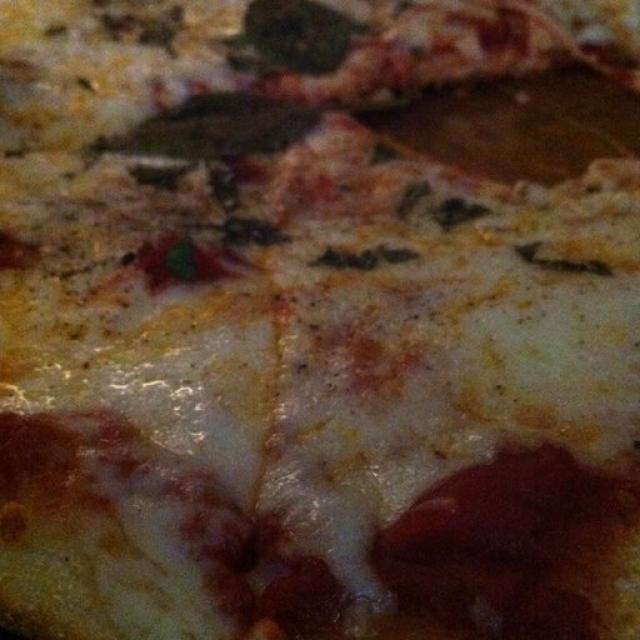Basil: (246, 0, 363, 75), (138, 167, 244, 207), (394, 186, 494, 228), (513, 244, 612, 280), (317, 239, 420, 270), (228, 214, 287, 246), (170, 234, 198, 279)
Cheese: (6, 297, 637, 417), (4, 13, 87, 218), (240, 425, 410, 510), (39, 203, 109, 295), (536, 194, 640, 235), (439, 244, 505, 306), (93, 47, 179, 93), (249, 256, 315, 307)
Pizza: (0, 0, 640, 640)
